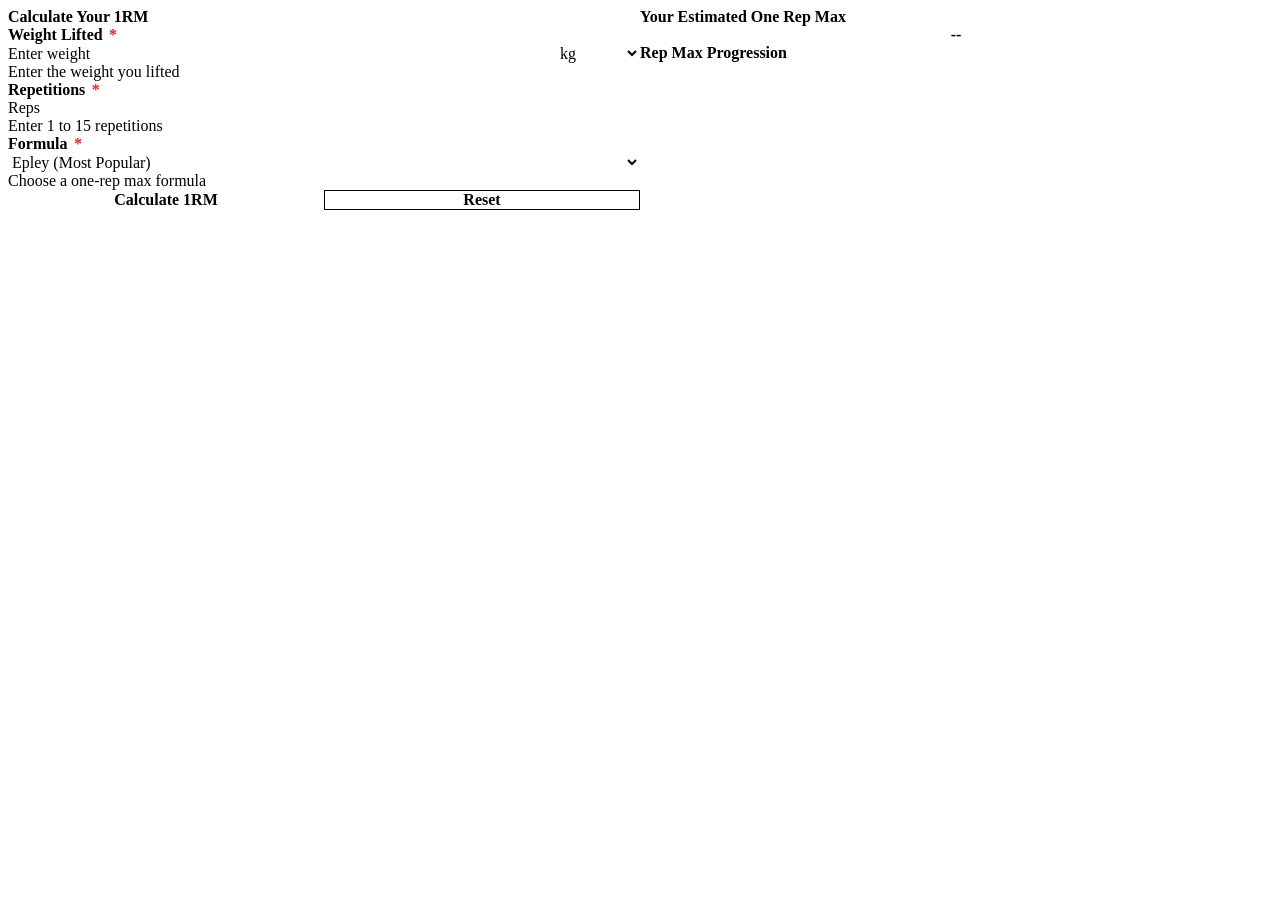
Scenario: OneRepMaxCalculator › preserves the entered weight unit end-to-end
Type "220" into the number field named "Weight Lifted" at (282, 54), box [8,44,556,63]
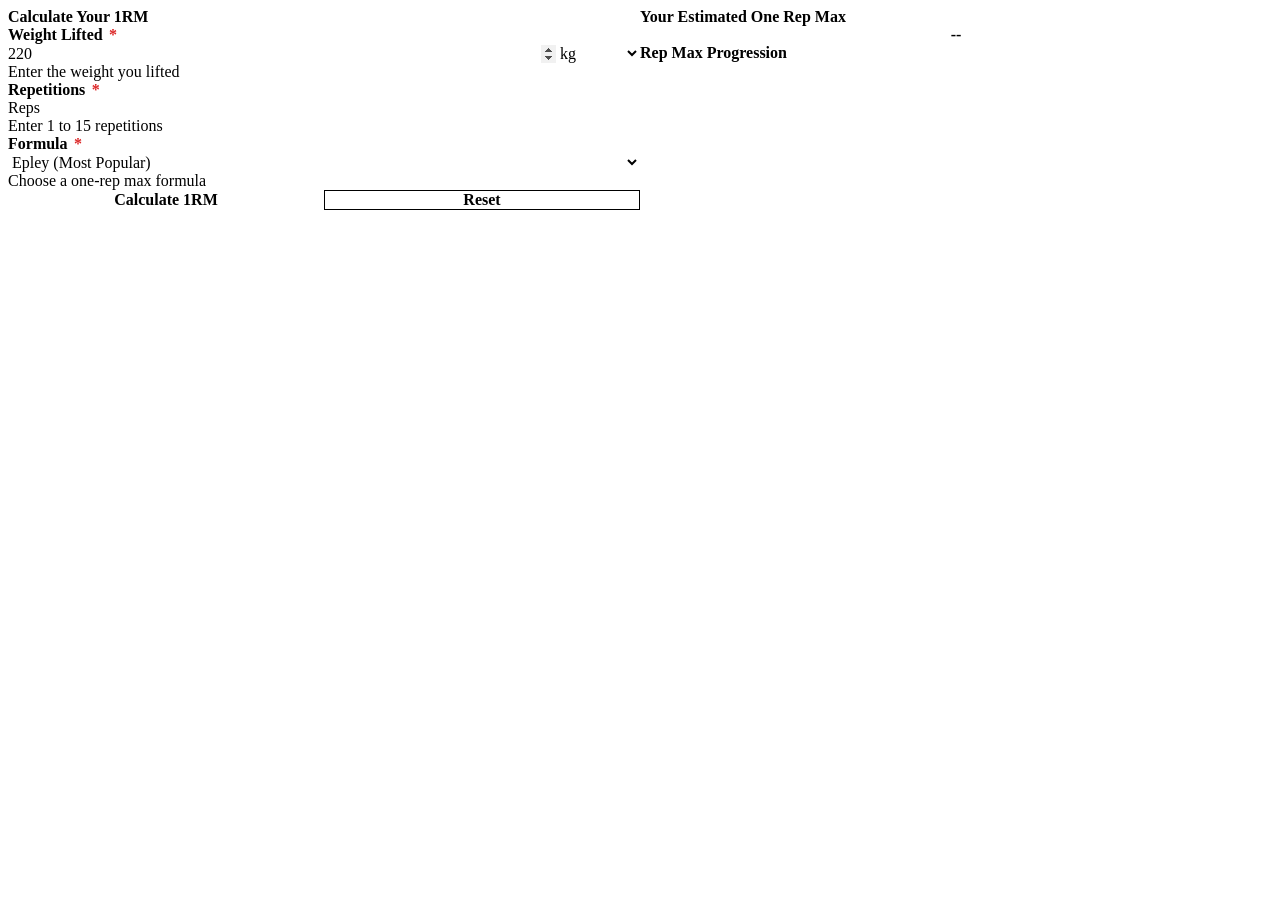
Select "lbs" in the dropdown named "Weight Lifted unit" at (598, 54), box [556,44,640,63]
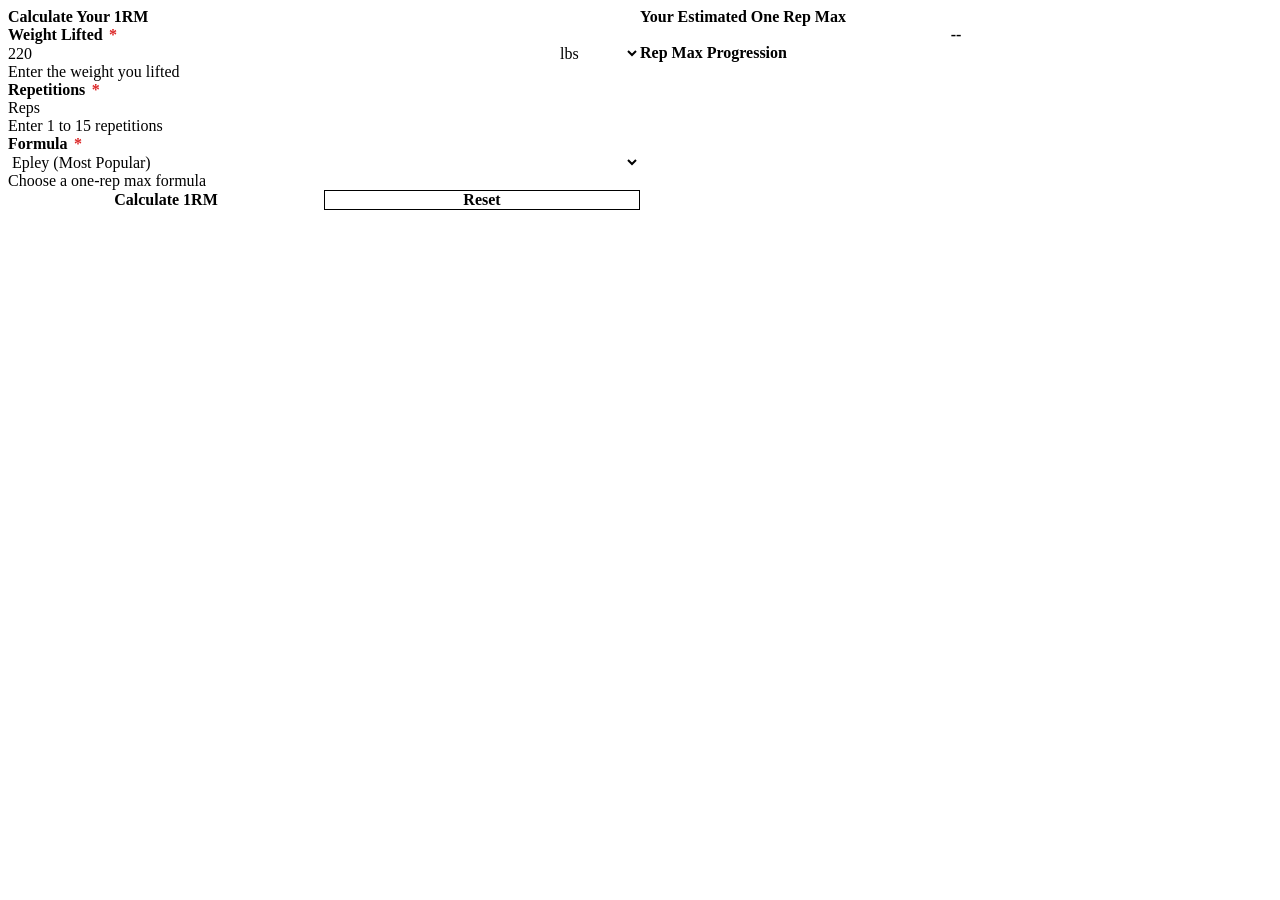
Type "10" into the number field labelled "Repetitions" at (324, 108), box [8,99,640,117]
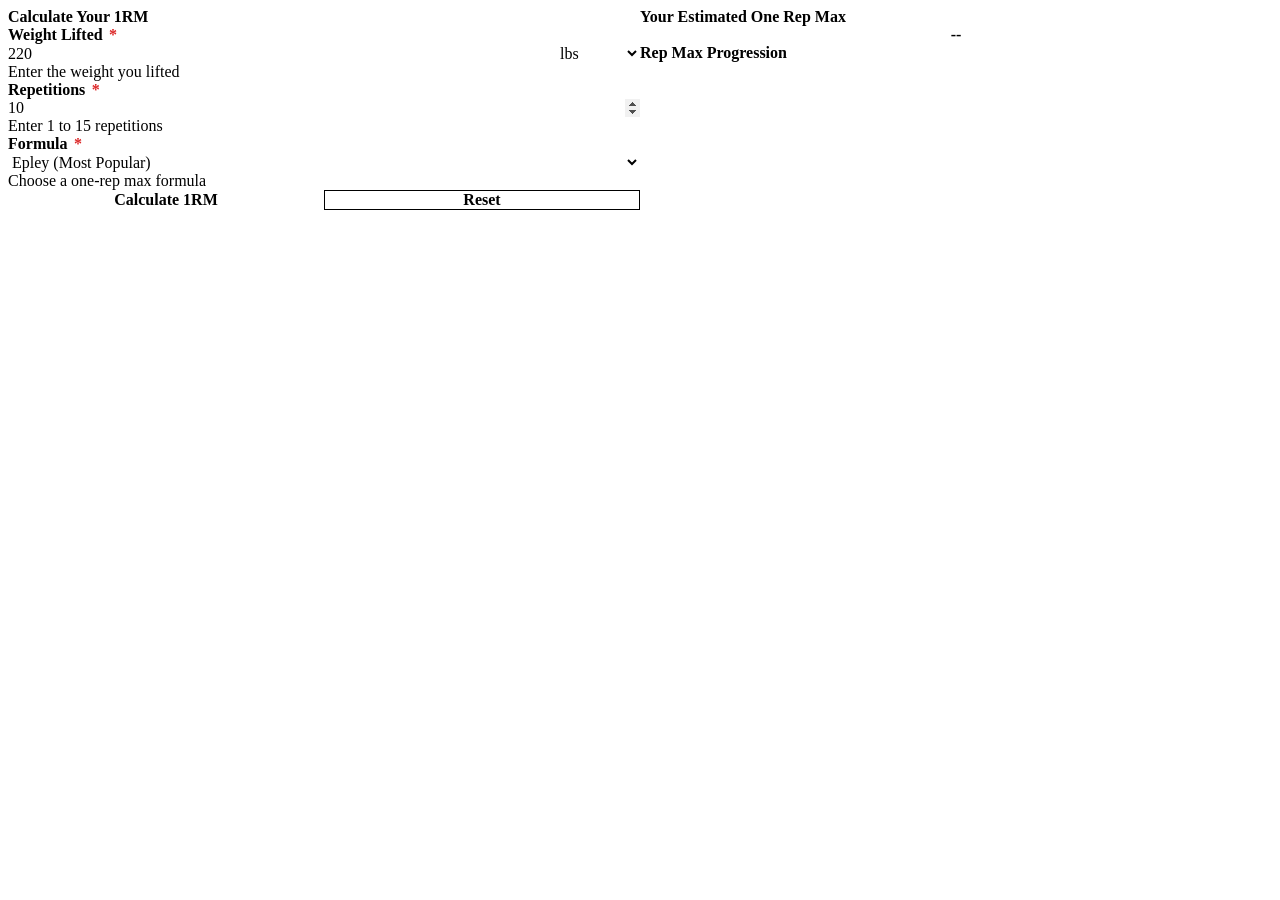
Select "Epley (Most Popular)" in the dropdown labelled "Formula" at (324, 162), box [8,153,640,172]
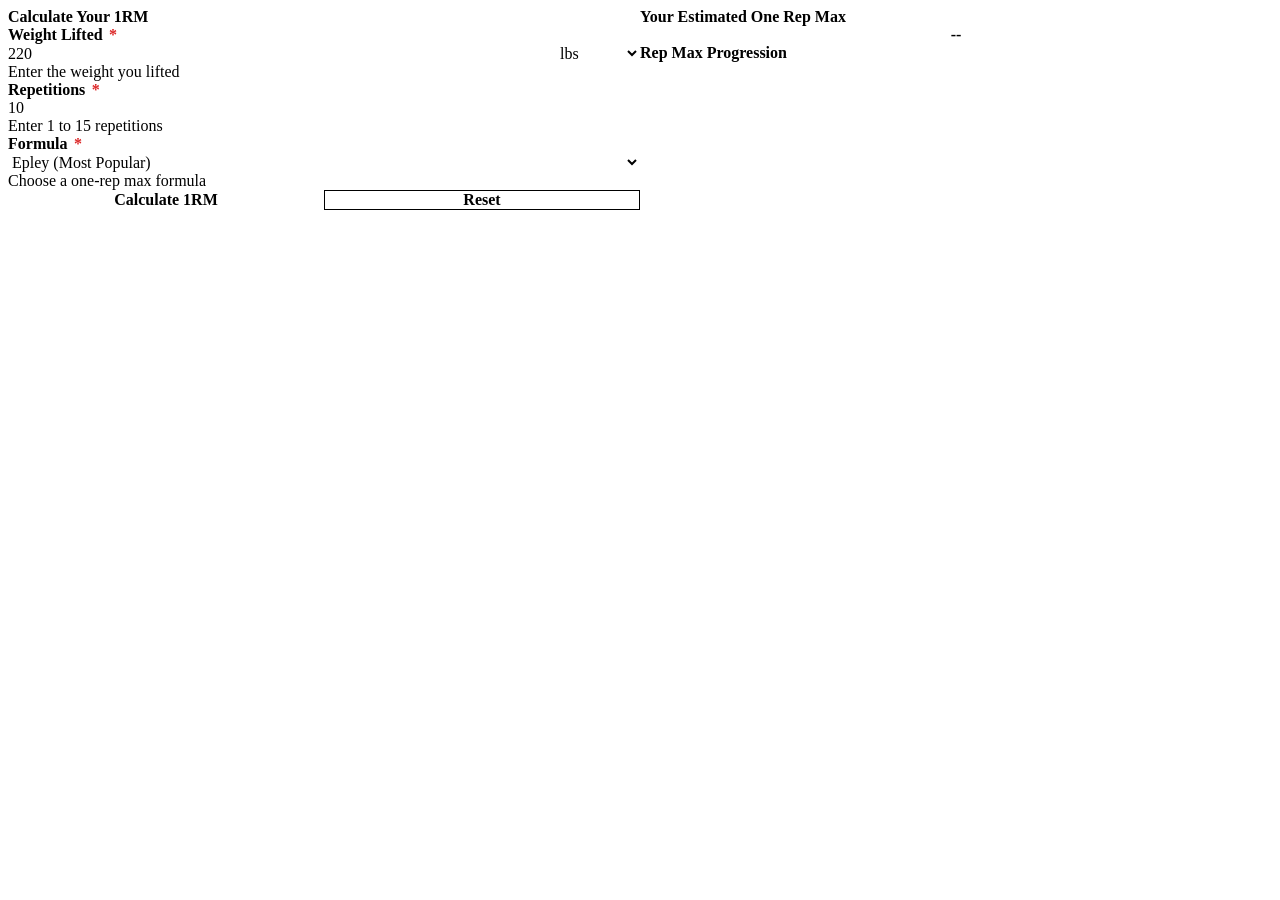
Click the button "Calculate 1RM" at (166, 200), box [8,190,324,210]
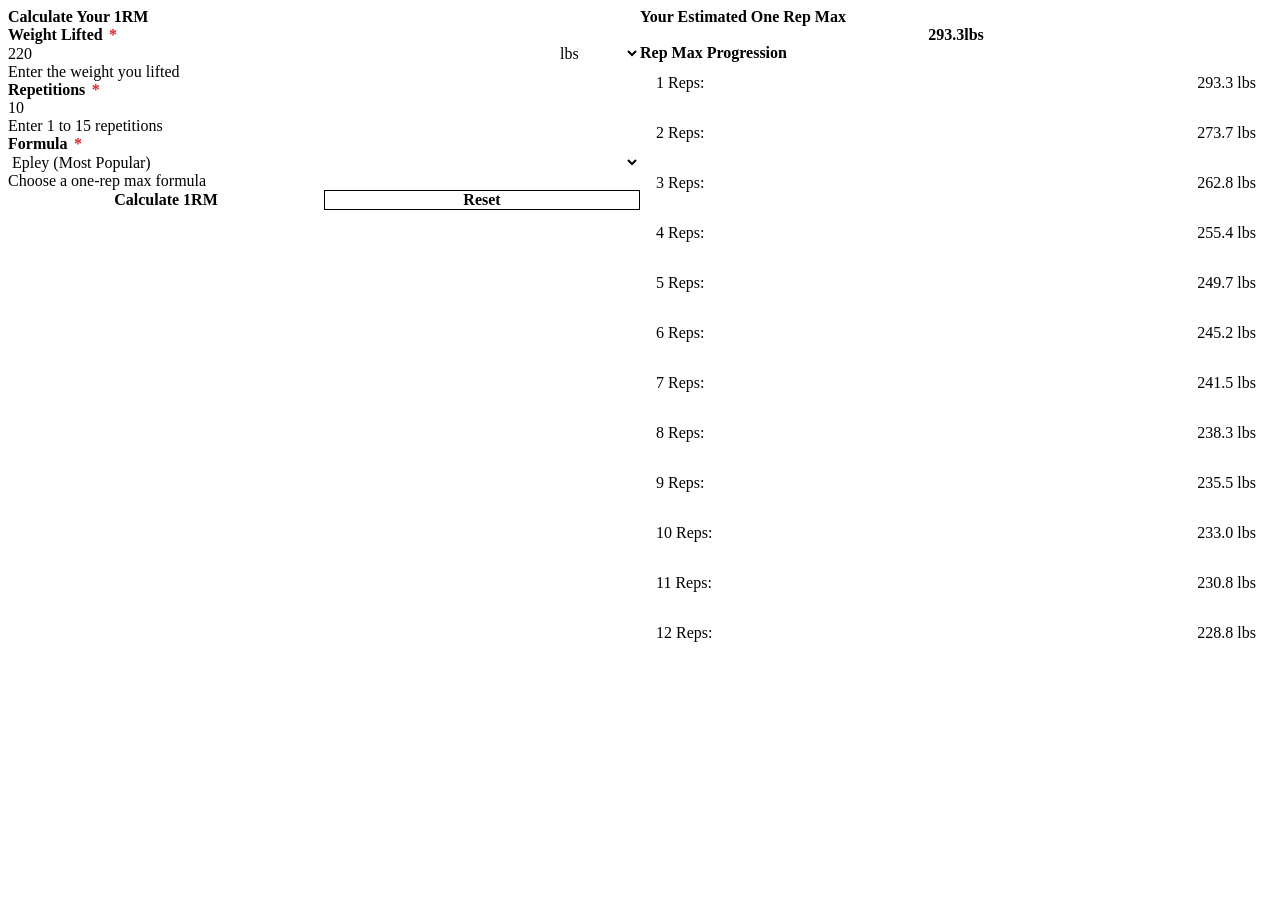
Expected: the element "Your Estimated One Rep Max" shows "293.3", [928,26,964,43]
Expected: the element "Your Estimated One Rep Max" shows "293.3 lbs", [640,8,1272,654]
